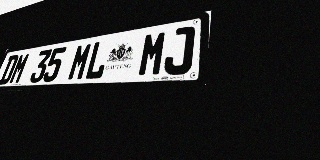3: (28, 49, 53, 83)
5: (41, 47, 67, 82)
D: (0, 54, 20, 85)
J: (162, 25, 195, 76)
L: (83, 39, 112, 80)
M: (137, 30, 168, 77), (66, 42, 93, 81), (8, 52, 31, 84)
